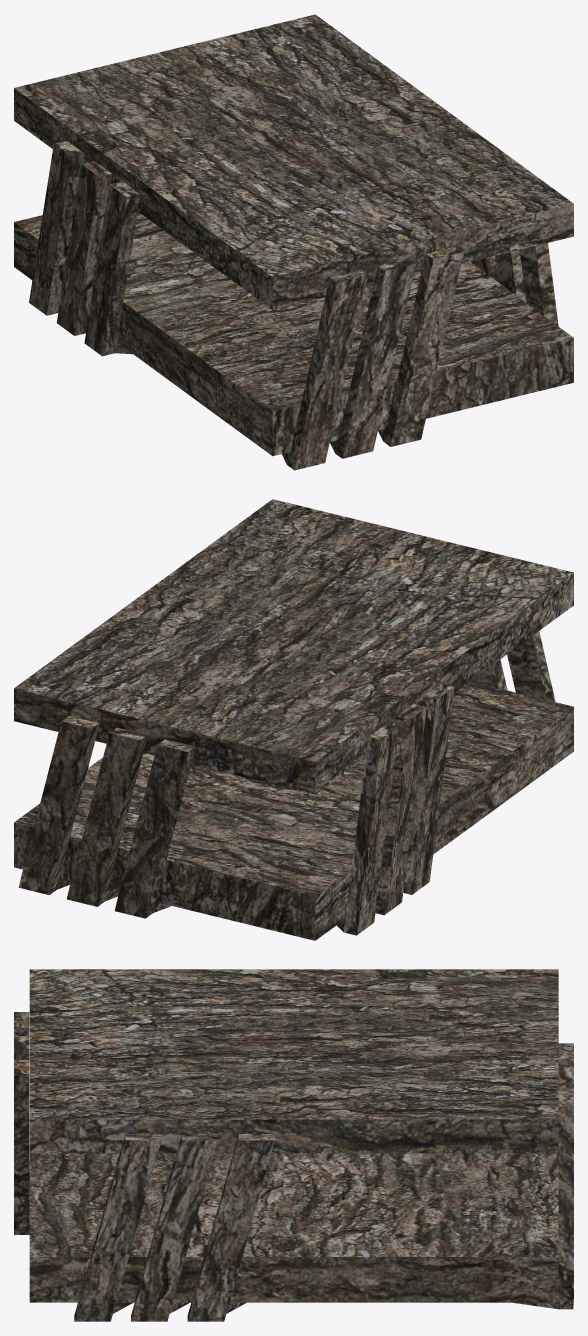
The model's file is CoffeeTable.fbx.
3 renders of one model, top to bottom at view 1: azimuth 30°, elevation 25°; view 2: azimuth 150°, elevation 25°; view 3: azimuth 270°, elevation 25°, orthographic. The views are drawn at different scales.
Visible parts, largest first — view 1: table_Material_0; view 2: table_Material_0; view 3: table_Material_0.
Boxes of the visible parts, x1=… form: table_Material_0: x1=14, y1=14, x2=573, y2=470; table_Material_0: x1=14, y1=499, x2=573, y2=940; table_Material_0: x1=14, y1=969, x2=573, y2=1321.
Bounding box in the file's own units: 84.35 × 47.07 × 122.
